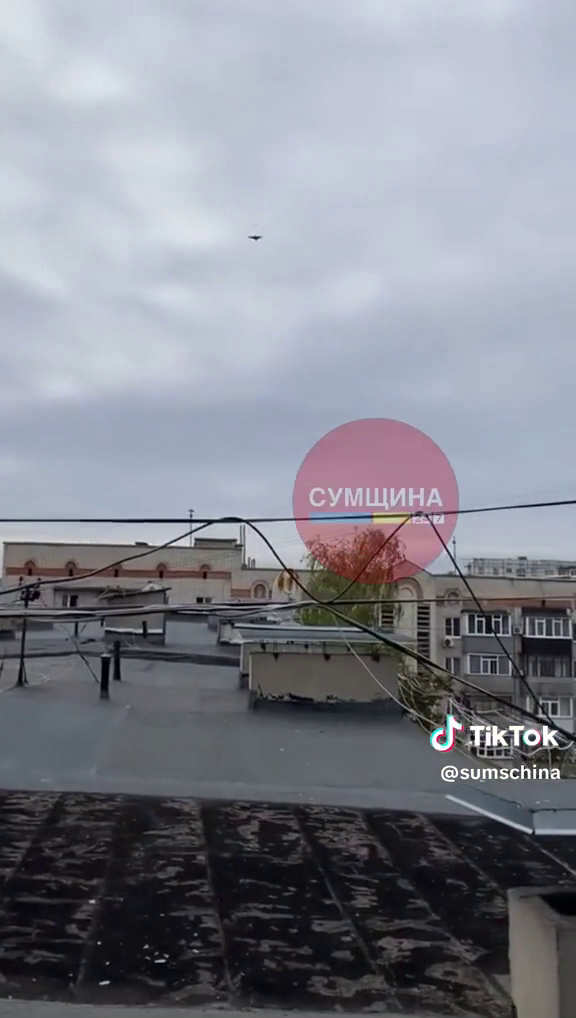shahed: (242, 225, 265, 245)
